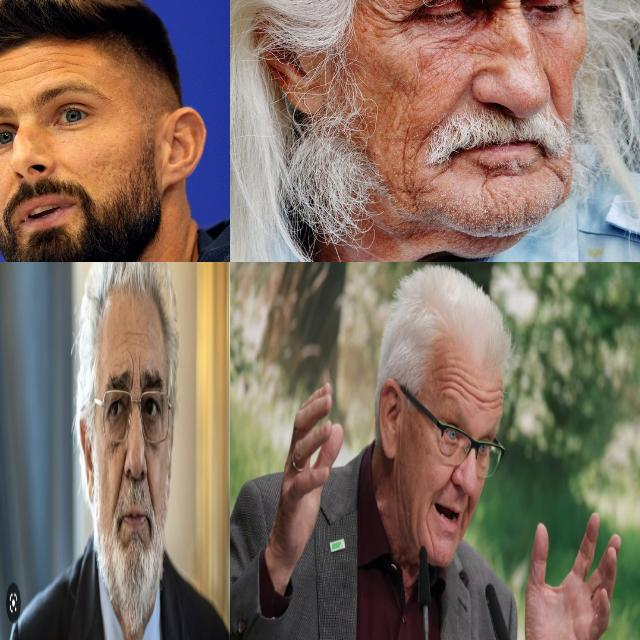chin: (478, 164, 516, 186), (544, 158, 572, 186)
crows_feet: (368, 6, 416, 42), (565, 0, 587, 21)
forehead: (21, 56, 79, 76), (440, 362, 467, 399), (476, 384, 502, 413), (0, 71, 12, 93), (128, 326, 144, 342), (119, 332, 127, 357)
frown_line: (129, 355, 135, 391), (138, 356, 142, 386)
gummy_smile: (415, 111, 447, 155), (117, 458, 125, 499), (145, 463, 153, 503)
masseter: (391, 122, 414, 192), (394, 468, 412, 531)
sad_smile: (426, 502, 435, 548)
